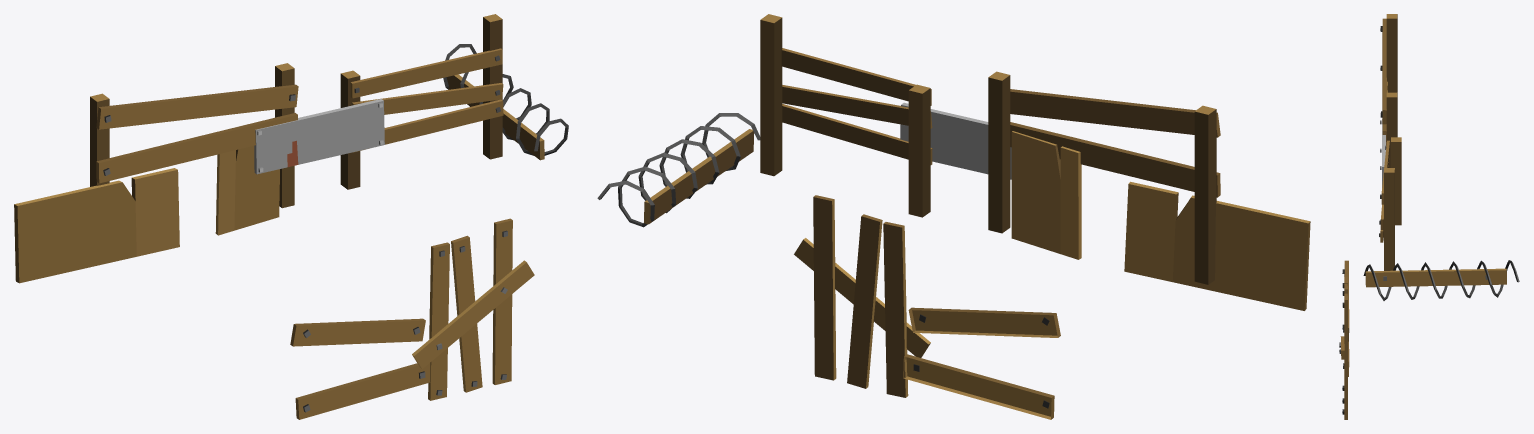
The model's file is SA_ShopSmall_Defence_01.gltf.
3 views of the same model, side by side, from view 1: azimuth 30°, elevation 25°; view 2: azimuth 150°, elevation 25°; view 3: azimuth 270°, elevation 25° (orthographic). The views are drawn at different scales.
Parts seen in each view (by area): view 1: SA_ShopSmall_Defence_01; view 2: SA_ShopSmall_Defence_01; view 3: SA_ShopSmall_Defence_01.
Part boxes in pixels (x1,y1,x2,y2): SA_ShopSmall_Defence_01: (14,14,568,419); SA_ShopSmall_Defence_01: (597,14,1310,419); SA_ShopSmall_Defence_01: (1339,14,1519,419).
Bounding box in the file's own units: 12.97 × 7.95 × 4.91.
1 material, 1 textured.
